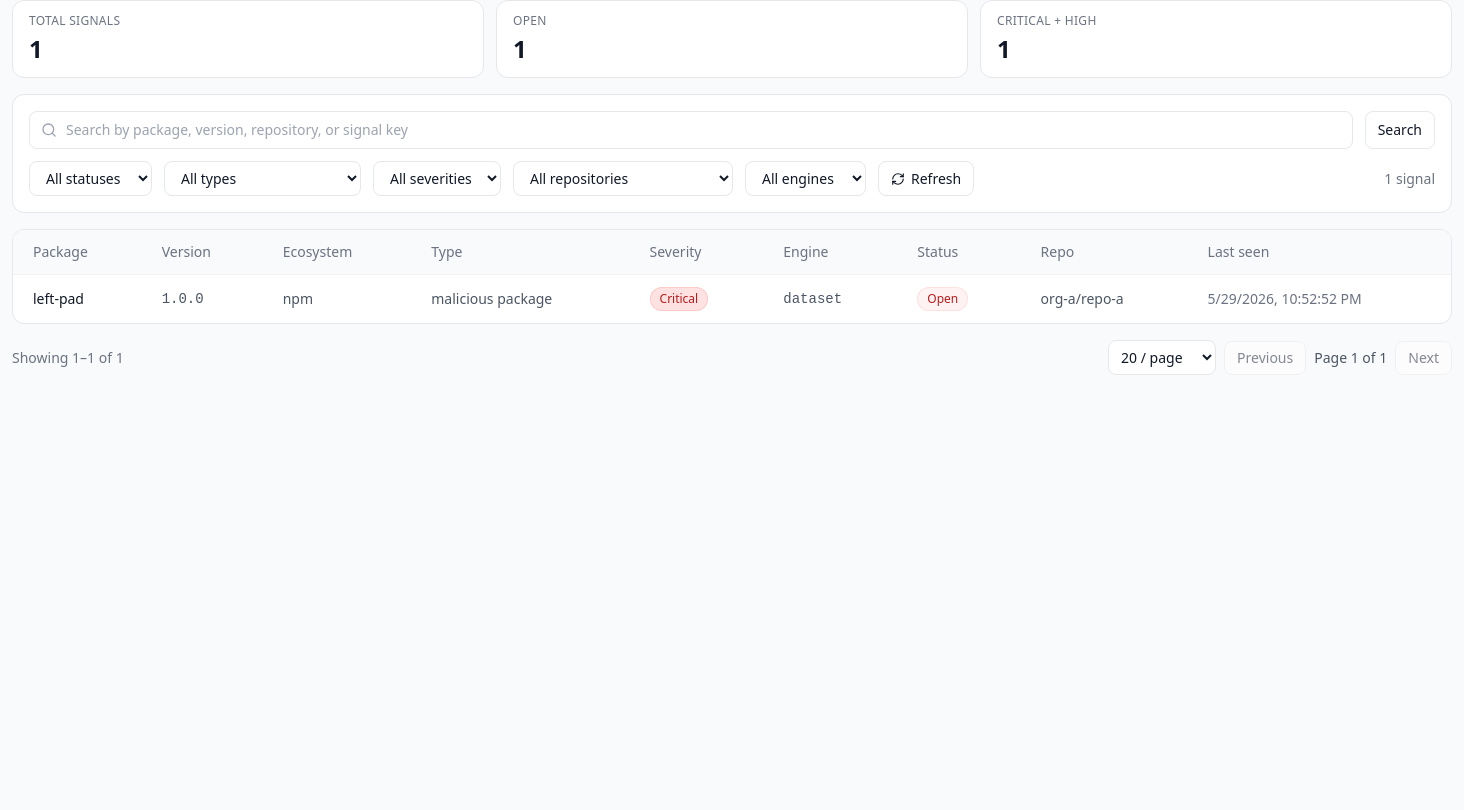
Scenario: SupplyChainSignalsPage flow › renders list and opens detail with evidence
Click the text "left-pad" at (77, 299), box [13, 274, 142, 323]
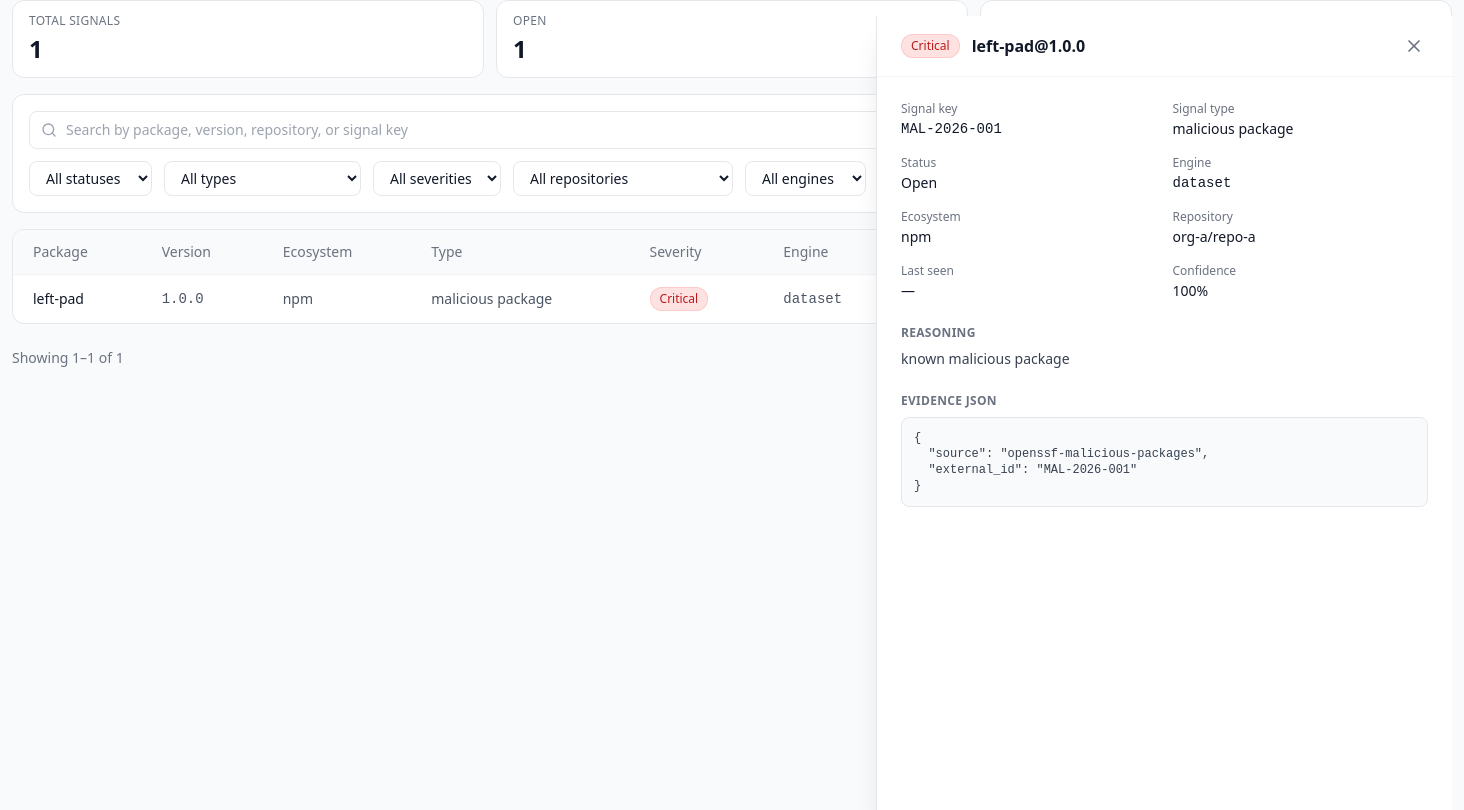
Check: the heading "Evidence JSON" is shown, box [901, 392, 997, 409]
